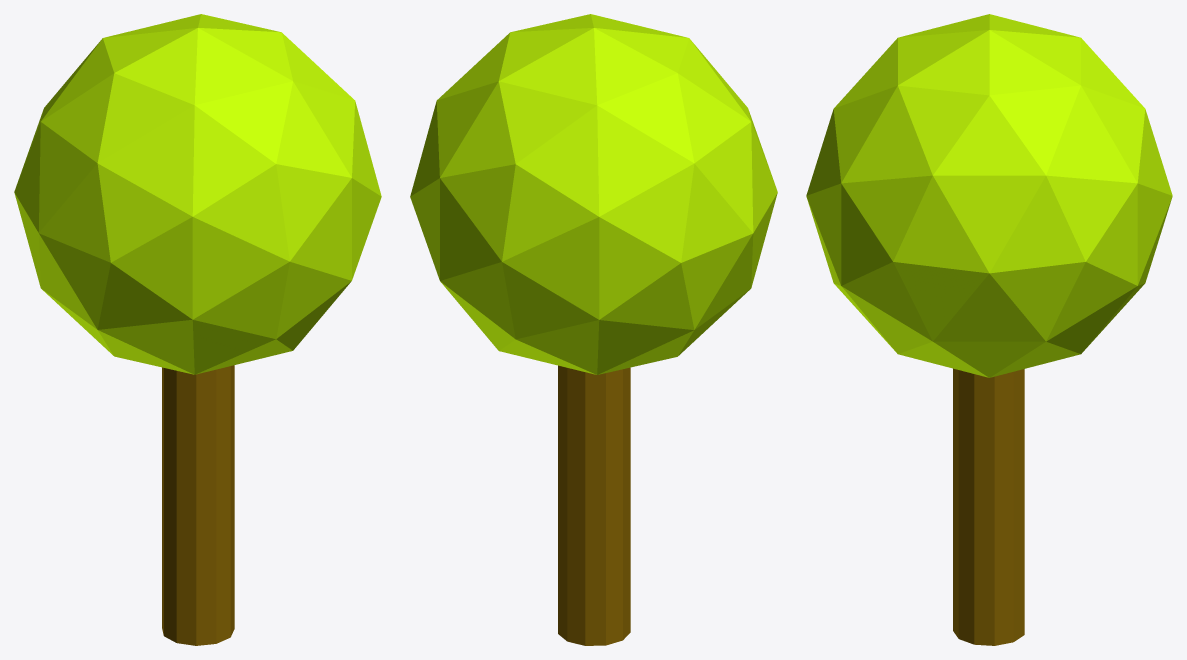
File: tree.gltf
3 renders of one model, left to right at view 1: azimuth 30°, elevation 25°; view 2: azimuth 150°, elevation 25°; view 3: azimuth 270°, elevation 25°, orthographic.
Visible parts, largest first — view 1: Icosahedron, Cylinder; view 2: Icosahedron, Cylinder; view 3: Icosahedron, Cylinder.
Boxes of the visible parts, x1,y1,x2,y2 form: Icosahedron: (14,14,381,374); Cylinder: (162,365,234,645); Icosahedron: (410,14,777,374); Cylinder: (558,365,630,645); Icosahedron: (806,14,1172,377); Cylinder: (953,368,1024,645).
Bounding box in the file's own units: 1 × 1.81 × 1.
